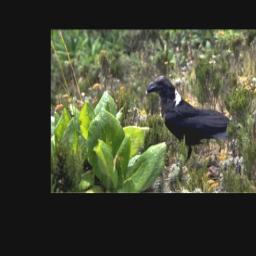Crow: (145, 74, 231, 163)
